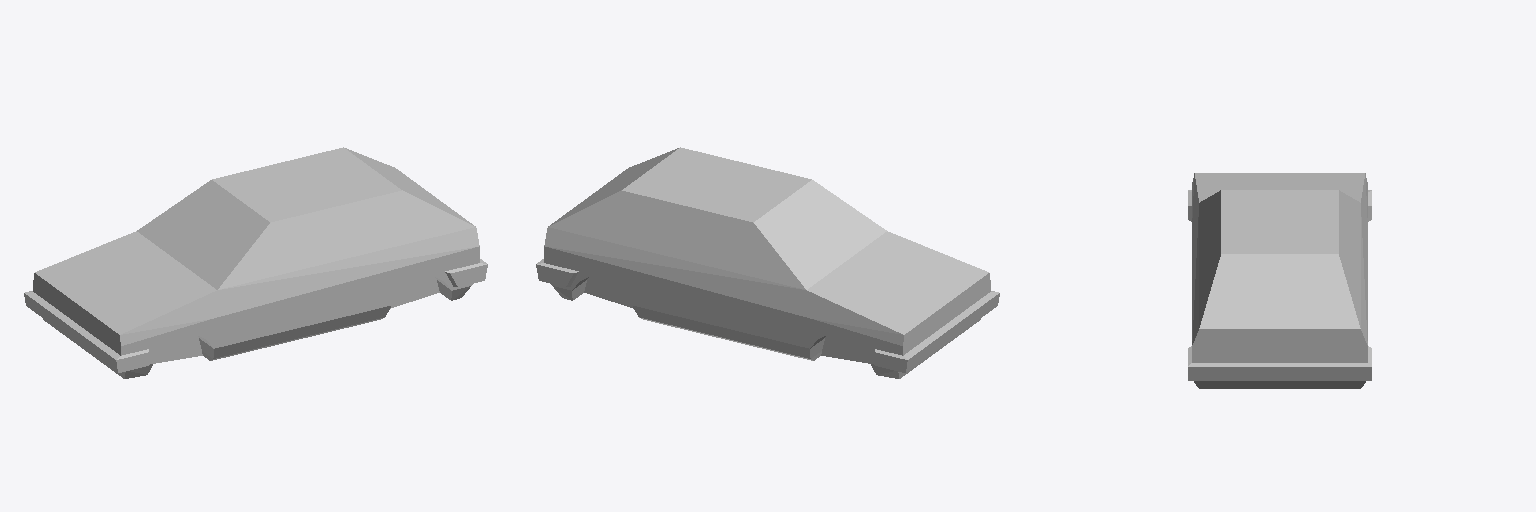
File: _vw-polo.obj
The picture shows the model from 3 angles: view 1: azimuth 30°, elevation 25°; view 2: azimuth 150°, elevation 25°; view 3: azimuth 270°, elevation 25°; orthographic projection.
Visible parts, largest first — view 1: vw-polo-simple_Plane.001; view 2: vw-polo-simple_Plane.001; view 3: vw-polo-simple_Plane.001.
Part boxes in pixels (bbox=[...]): vw-polo-simple_Plane.001: bbox=[24, 147, 487, 378]; vw-polo-simple_Plane.001: bbox=[536, 147, 999, 378]; vw-polo-simple_Plane.001: bbox=[1188, 173, 1371, 388].
Size of the model in its own units: 3.72 by 1.12 by 1.6.